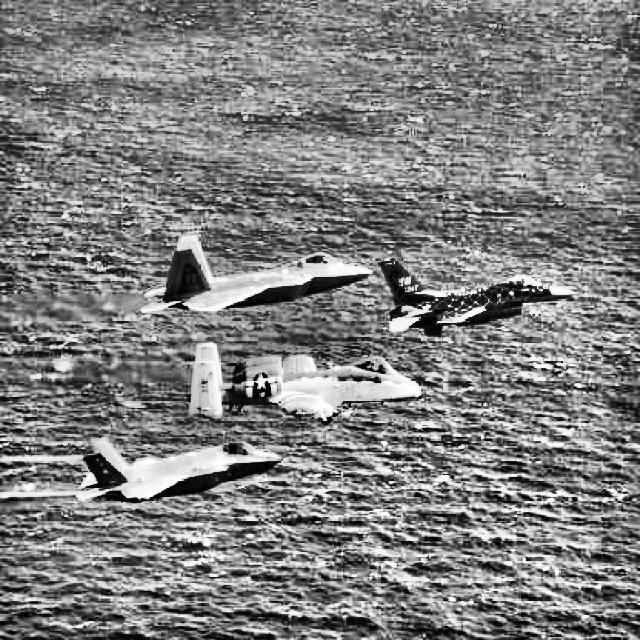A10: (187, 343, 422, 425)
F16: (378, 258, 582, 337)
F22: (140, 235, 372, 312)
F35: (75, 439, 283, 503)
